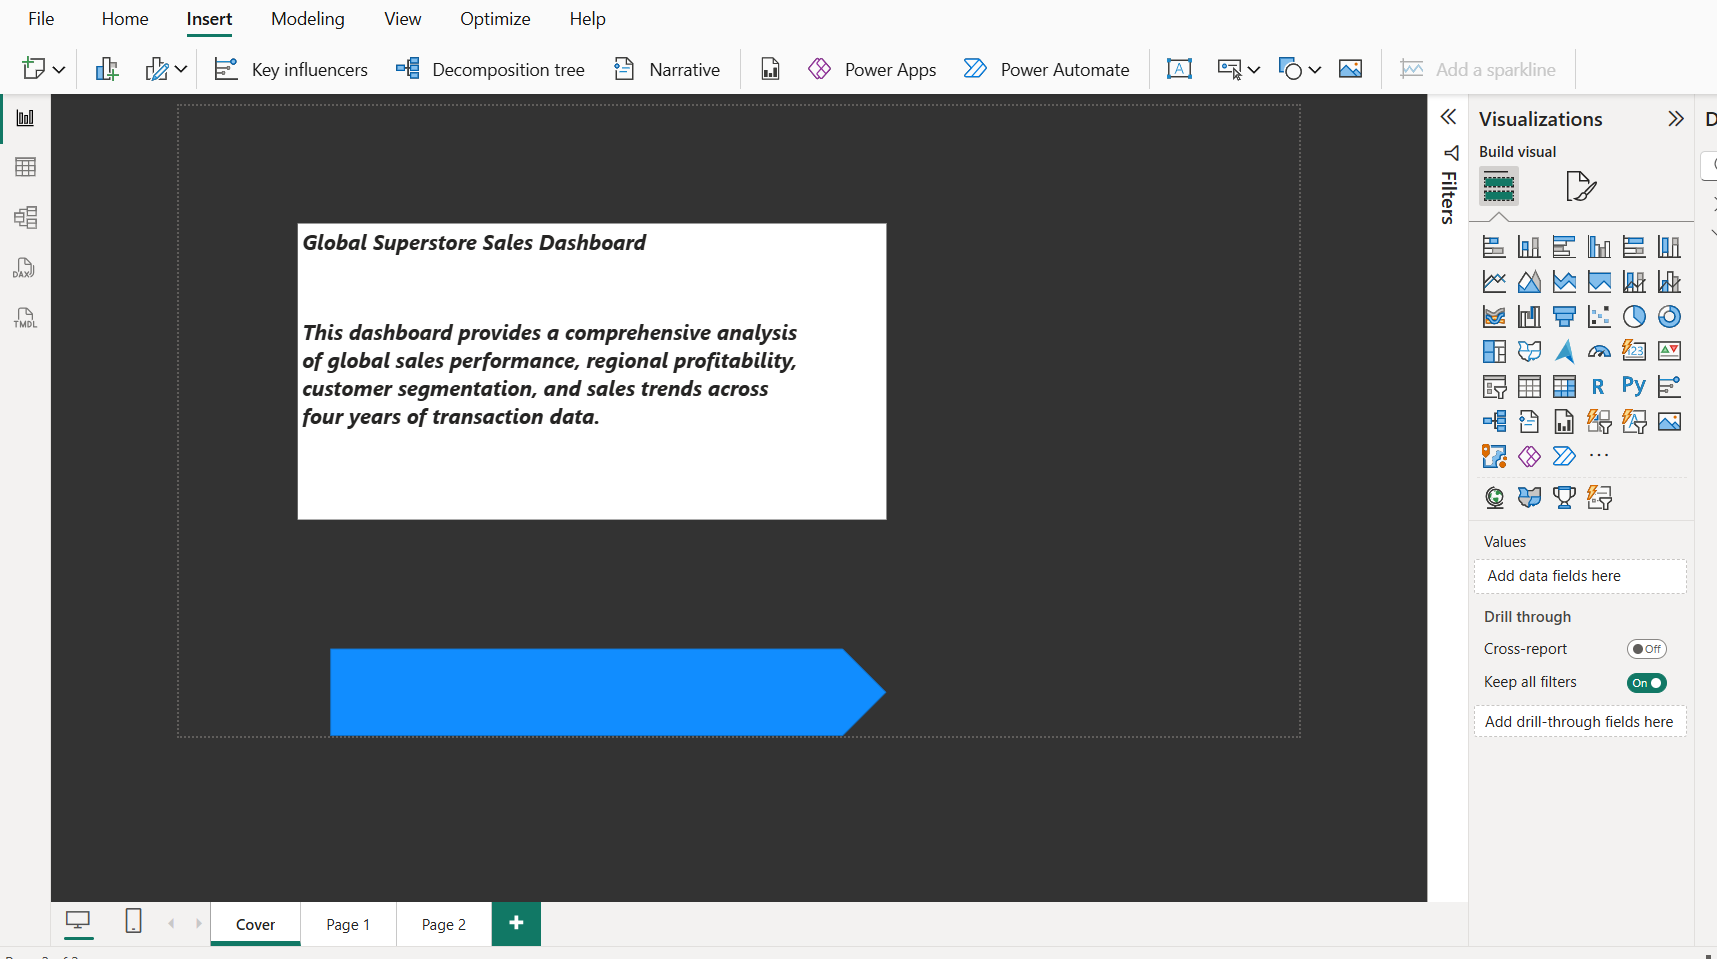

Layout of this report page (visuals, bound fields, positions):
{"tool":"powerbi","page":{"name":"Cover","canvas":[1280,720],"ordinal":0},"visuals":[{"type":"shape","box":[172.9,620,635.7,100],"z":1},{"type":"textbox","box":[135.7,134.3,672.9,338.6],"z":2}]}

Visuals, with their boxes on the page's 1280x720 design canvas (x1, y1, x2, y2). These are canvas units, not pixel positions in the 1717x959 screenshot, which may show the page scaled, cropped or inside an application window:
shape: 173, 620, 809, 720
textbox: 136, 134, 809, 473
